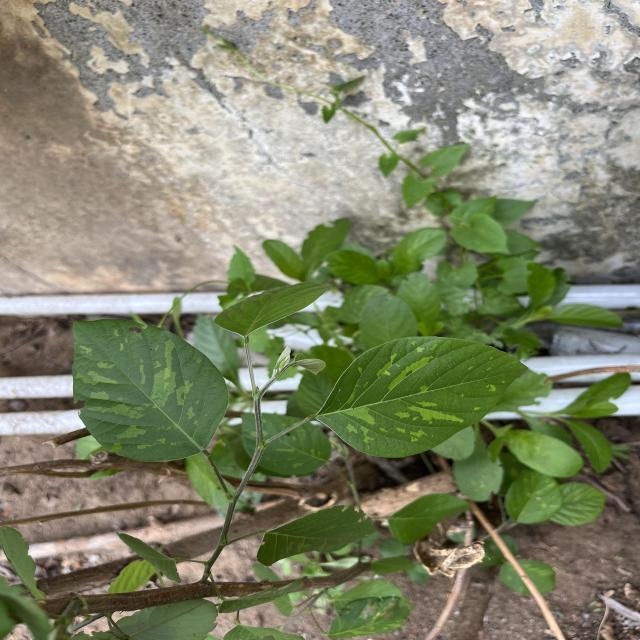Desmodium gangeticum: (312, 334, 532, 460), (65, 313, 231, 465)
